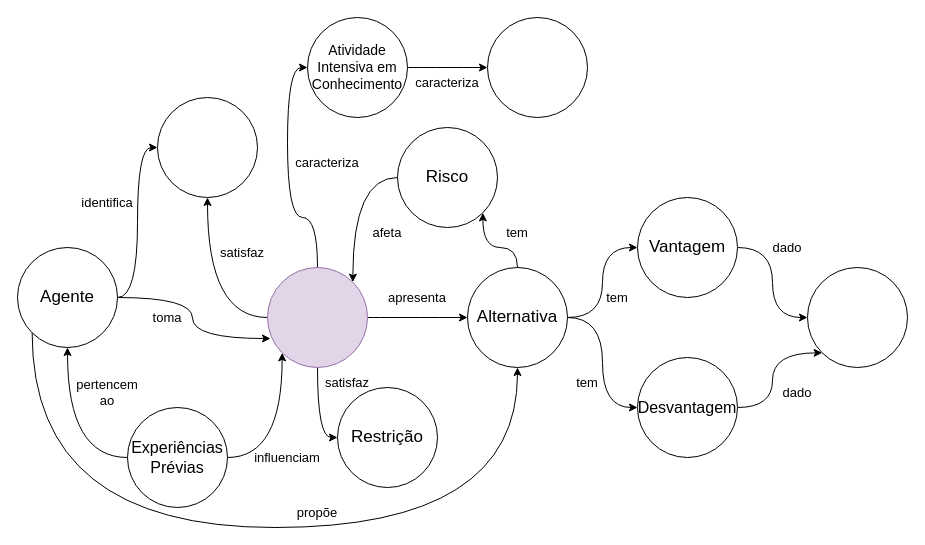
Image size: 925x545. Some labels were removed from this diagram. The box of each missing label's shape, as (x1, y1, x2, y2) in pixels:
Critério: (806, 266, 908, 368)
Decisão: (266, 266, 368, 368)
Pergunta: (156, 96, 258, 198)
Processo Intensivo em Conhecimento: (486, 16, 588, 118)
